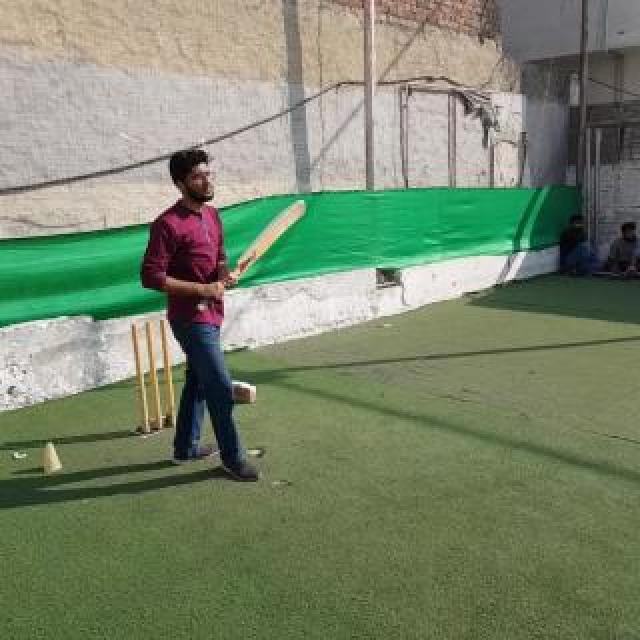bat: (196, 200, 306, 312)
